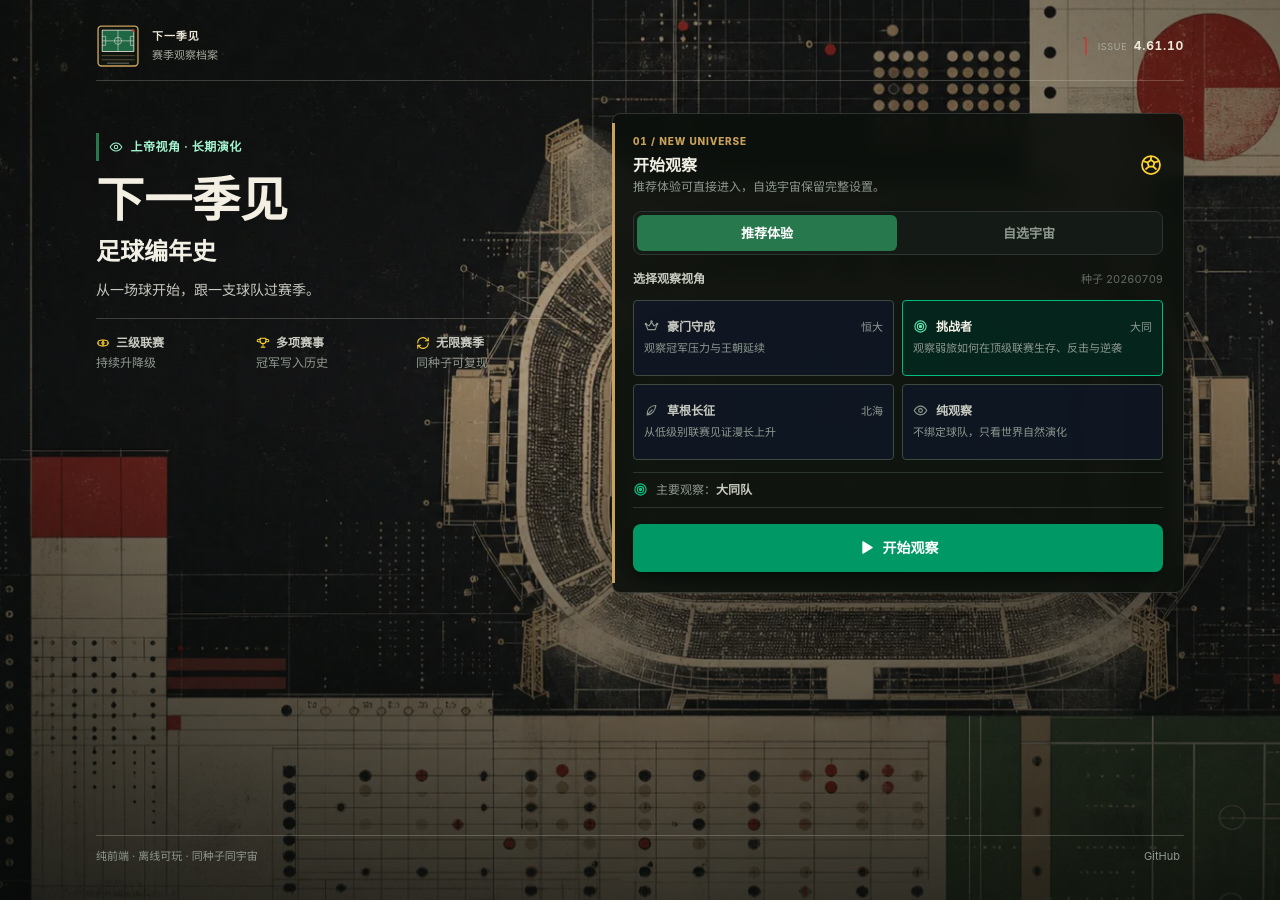
Test: Welcome initialization recovery › restores the start action and explains an initialization failure
Click the button "开始观察" at (898, 548), box [633, 524, 1163, 572]
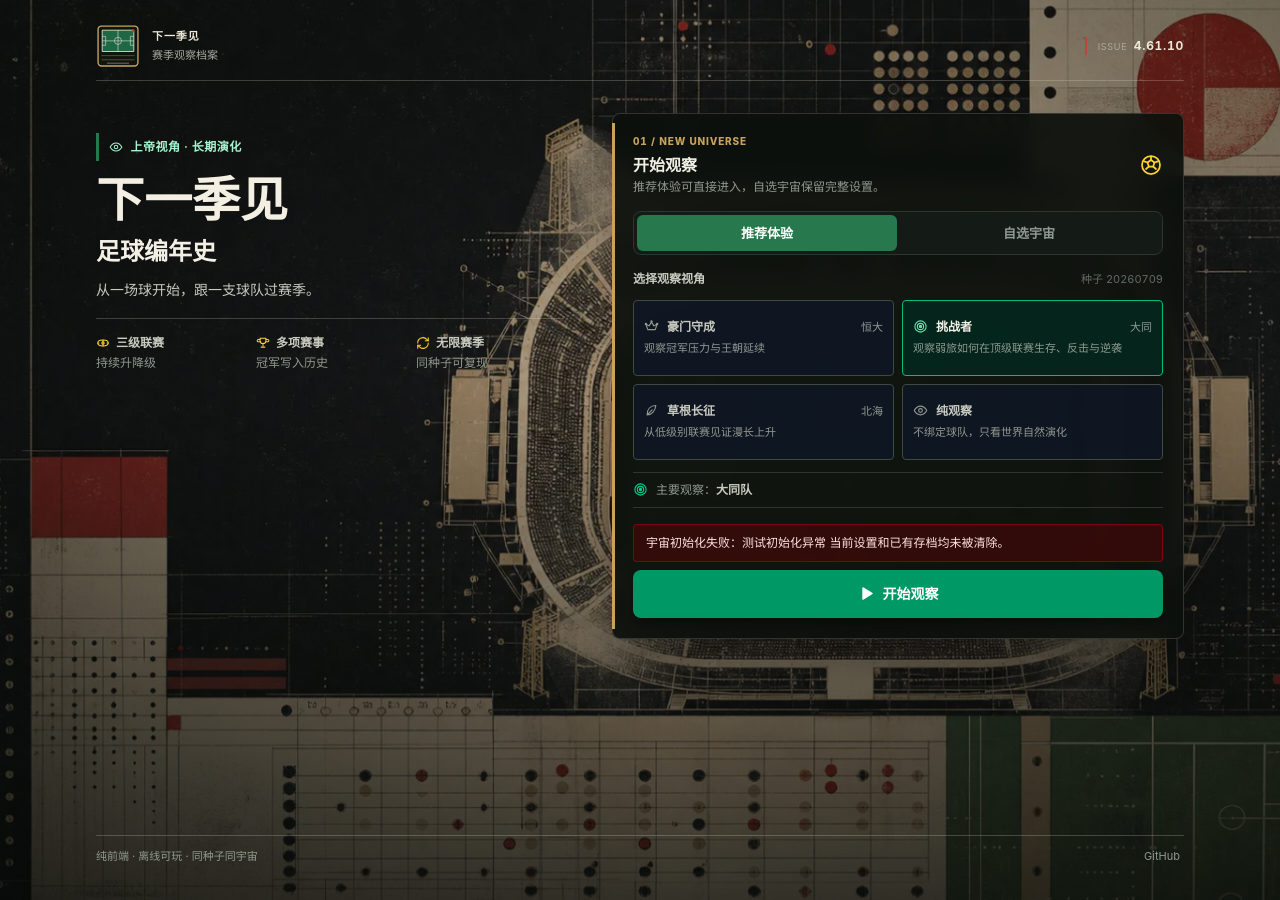
Expected: the button "开始观察" is enabled, [633, 570, 1163, 618]
Result: the message "宇宙初始化失败：测试初始化异常 当前设置和已有存档均未被清除。" is shown at [633, 524, 1163, 562]
